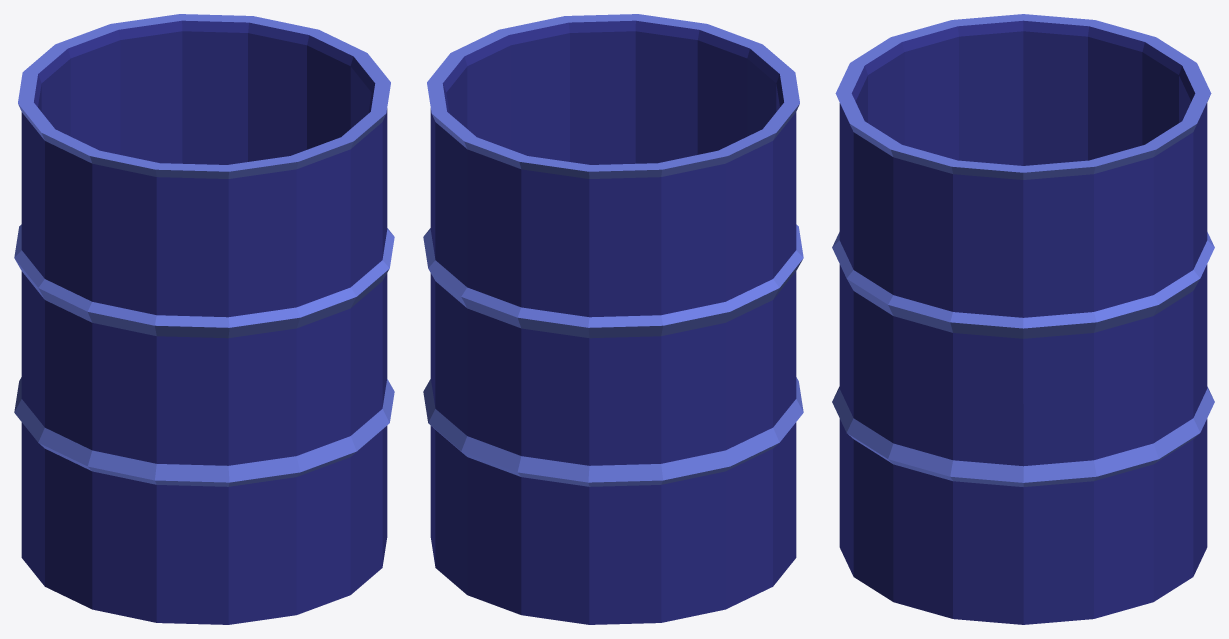
File: barrel.fbx
3 views of the same model, side by side, from view 1: azimuth 30°, elevation 25°; view 2: azimuth 150°, elevation 25°; view 3: azimuth 270°, elevation 25° (orthographic).
Visible parts, largest first — view 1: Cylinder; view 2: Cylinder; view 3: Cylinder.
Boxes of the visible parts, <box> form: Cylinder: <box>14,14,394,624</box>; Cylinder: <box>423,14,803,624</box>; Cylinder: <box>832,14,1214,624</box>.
Size of the model in its own units: 0.9578 by 1.25 by 0.9578.
